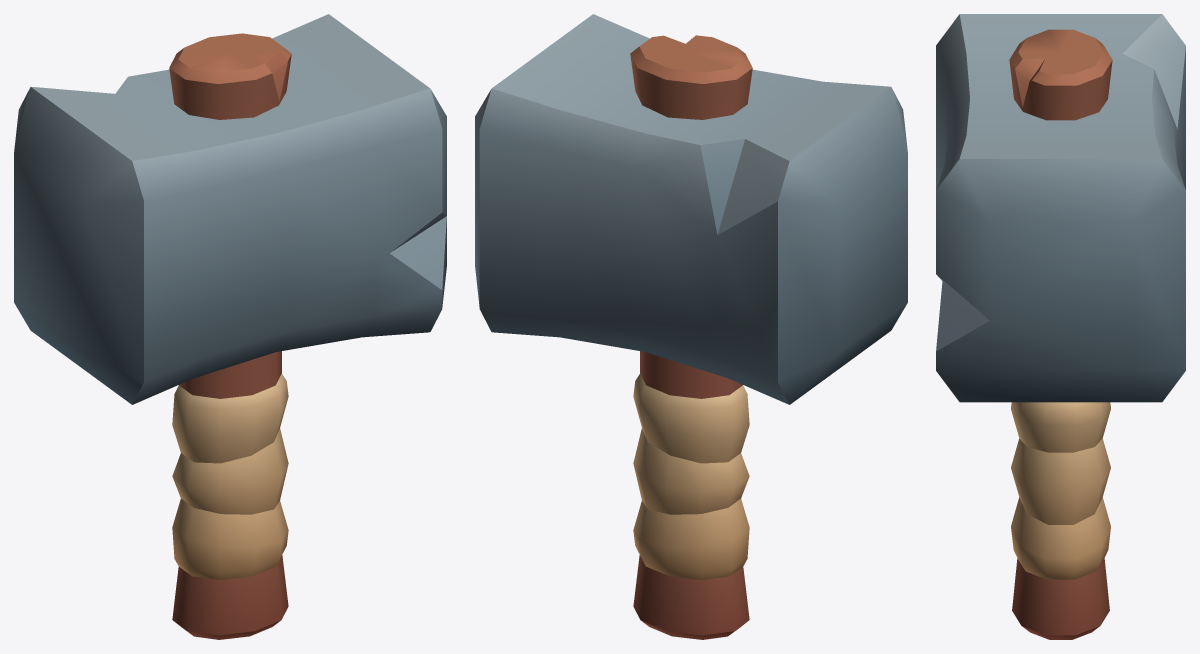
Rendered from prop_hammer.glb.
3 views of the same model, side by side, from view 1: azimuth 30°, elevation 25°; view 2: azimuth 150°, elevation 25°; view 3: azimuth 270°, elevation 25° (orthographic).
Visible parts, largest first — view 1: hammer; view 2: hammer; view 3: hammer.
Part boxes in pixels (x1=…): hammer: x1=14, y1=14, x2=446, y2=639; hammer: x1=475, y1=14, x2=907, y2=639; hammer: x1=936, y1=14, x2=1185, y2=639.
Bounding box in the file's own units: 0.5434 × 0.8234 × 0.3261.
1 material, 1 textured.
